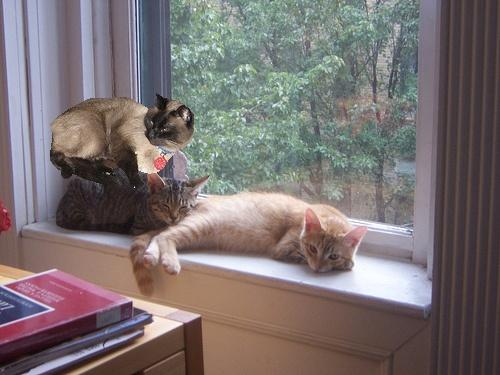tampered: (51, 94, 194, 188)
